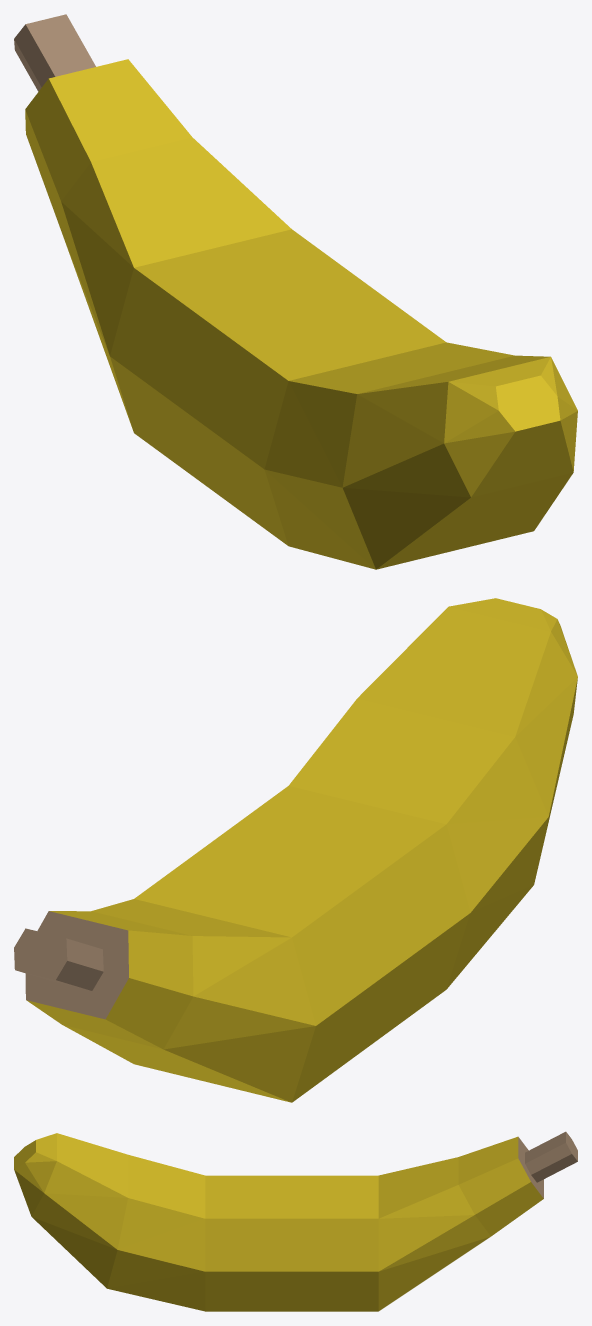
Rendered from banane.fbx.
3 renders of one model, top to bottom at view 1: azimuth 30°, elevation 25°; view 2: azimuth 150°, elevation 25°; view 3: azimuth 270°, elevation 25°, orthographic. The views are drawn at different scales.
Visible parts, largest first — view 1: bananna; view 2: bananna; view 3: bananna.
Part boxes in pixels (x1,y1,x2,y2): bananna: (14,14,577,569); bananna: (14,598,577,1102); bananna: (14,1131,577,1311).
Bounding box in the file's own units: 11.54 × 48.76 × 14.58.
